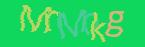M: (57, 9, 88, 38), (20, 5, 50, 32)
g: (106, 11, 124, 36)
k: (90, 12, 106, 41)
n: (43, 10, 62, 30), (82, 13, 97, 31)
